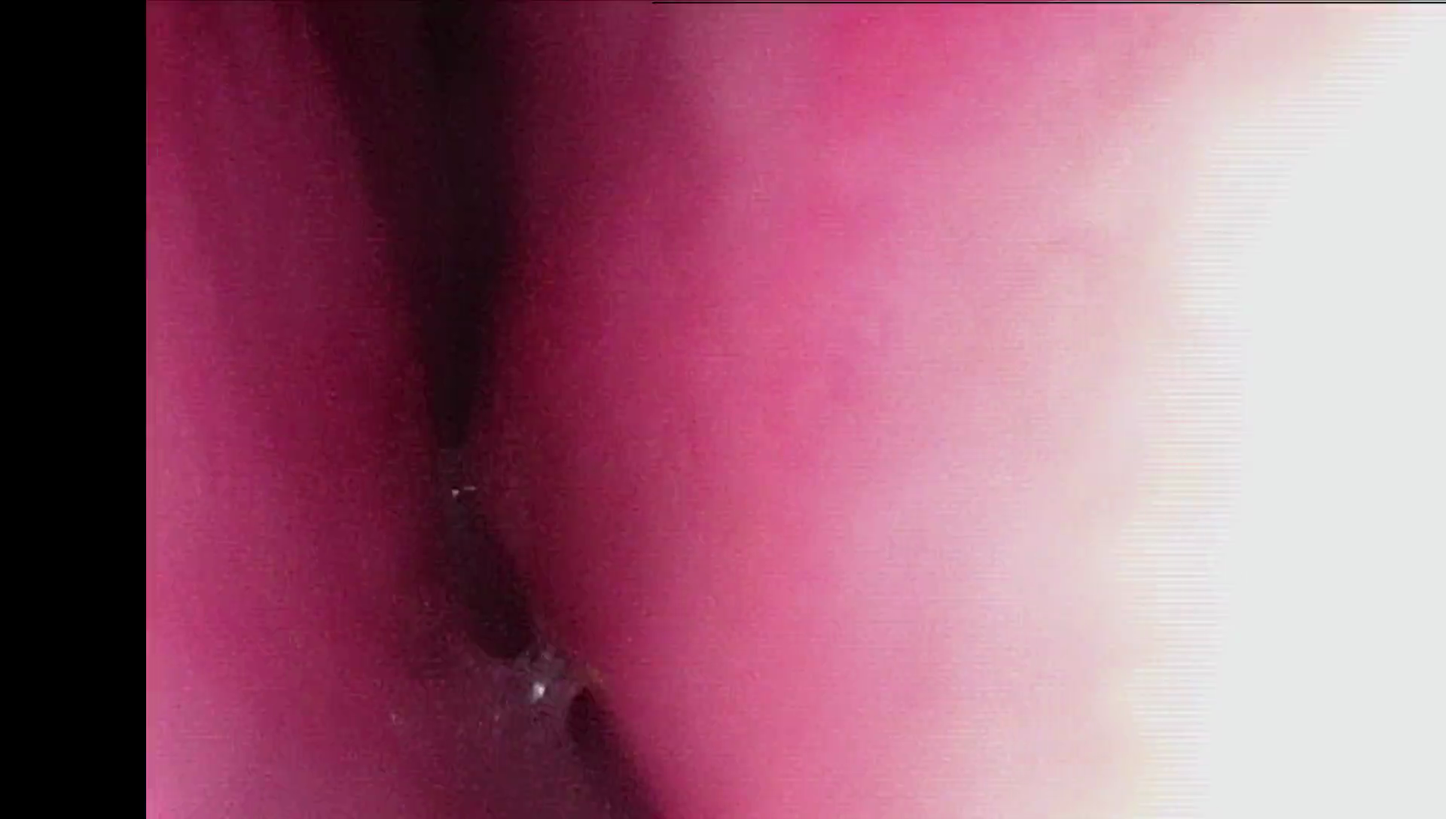close_wall: (715, 19, 1446, 819), (149, 217, 302, 819)
next: (384, 187, 511, 449), (417, 552, 542, 656)
